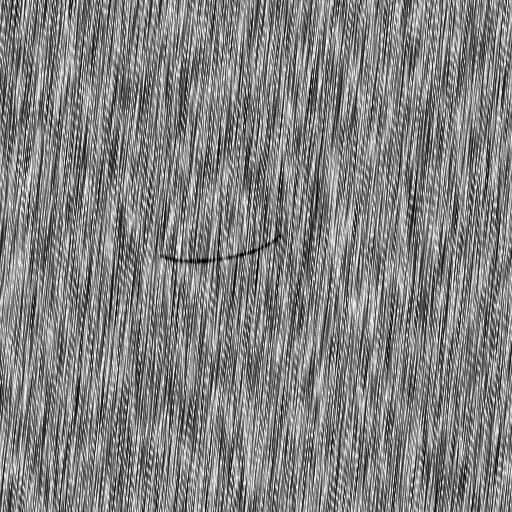DefectTypeC: (160, 233, 281, 261)
